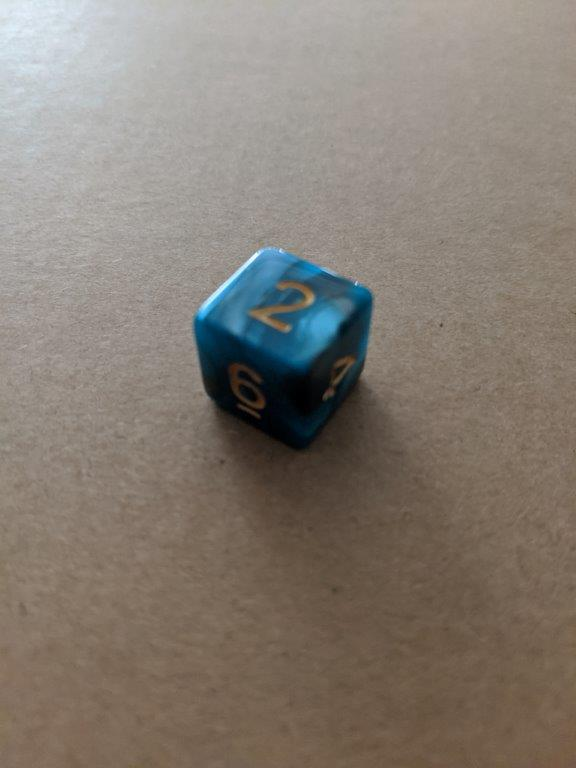d6-2: (192, 246, 373, 450)
